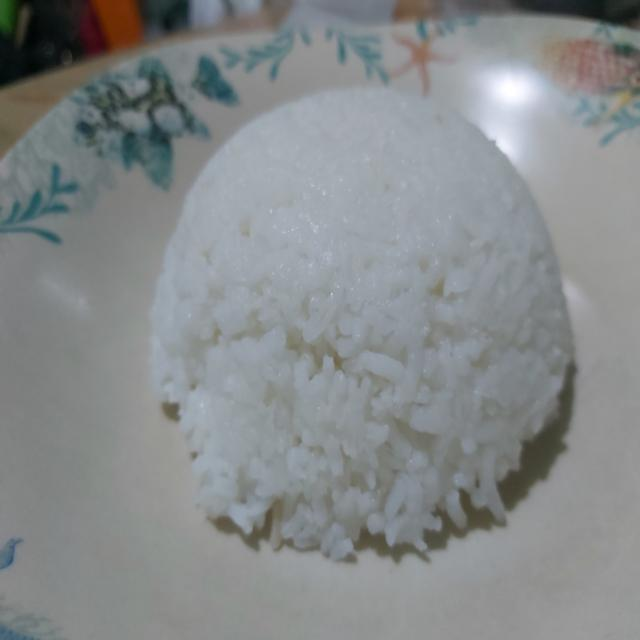Chicken -Chicken Inasal-: (142, 75, 586, 572)
